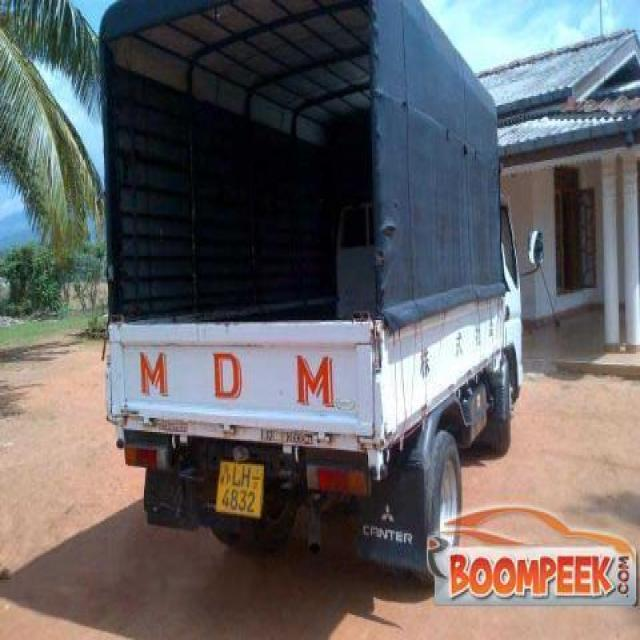license-plate: (219, 457, 261, 515)
